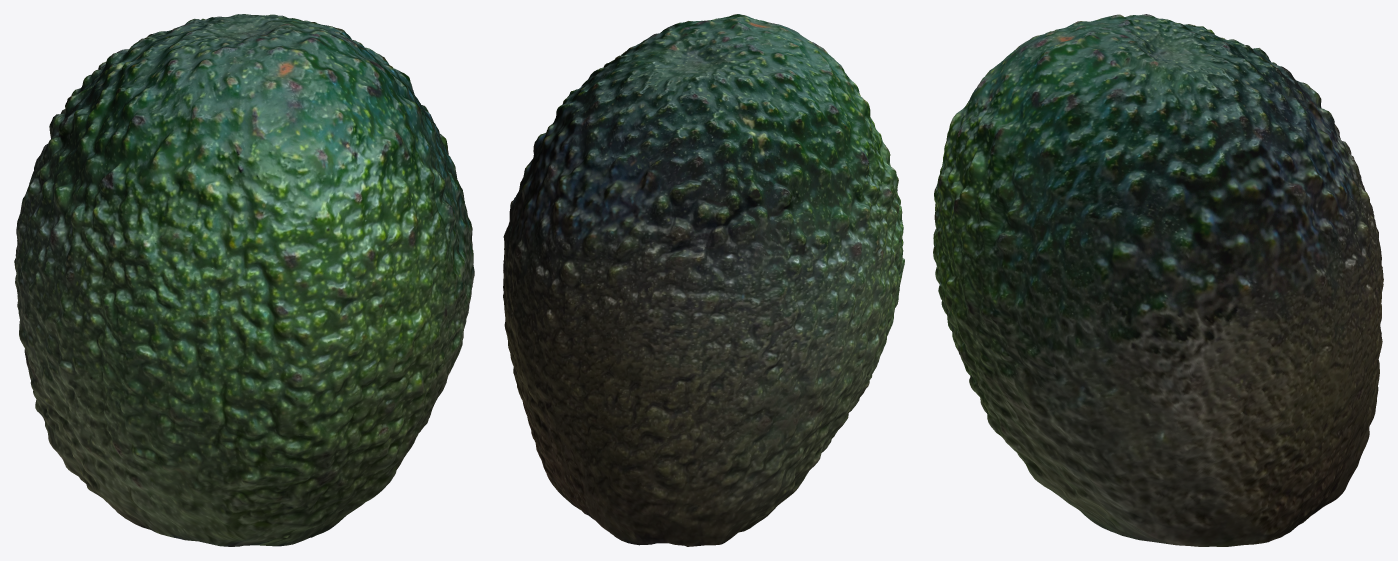
The model's file is avocado.glb.
The picture shows the model from 3 angles, left to right: view 1: azimuth 30°, elevation 25°; view 2: azimuth 150°, elevation 25°; view 3: azimuth 270°, elevation 25°; orthographic projection. The views are drawn at different scales.
Visible parts, largest first — view 1: geometry_0; view 2: geometry_0; view 3: geometry_0.
Boxes of the visible parts, x1,y1,x2,y2 form: geometry_0: (14, 14, 474, 546); geometry_0: (503, 14, 904, 546); geometry_0: (933, 14, 1383, 546).
Bounding box in the file's own units: 0.0606 × 0.0746 × 0.0642.
Materials: 1 (1 with a texture image).
